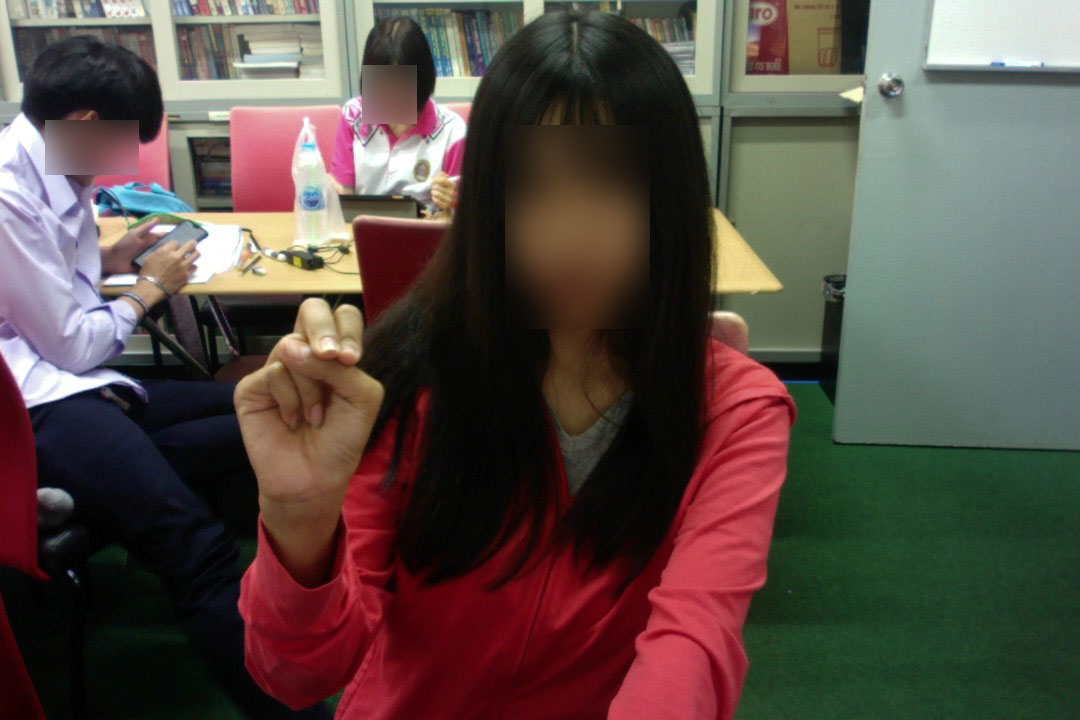nor: (229, 289, 390, 516)
